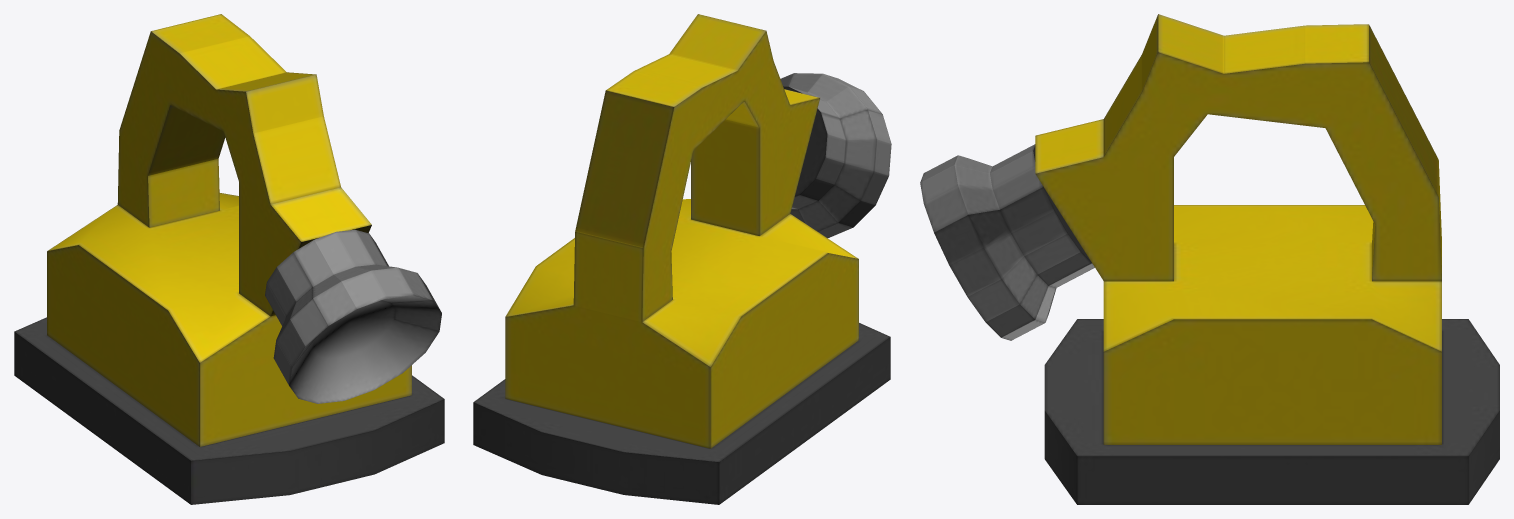
Rendered from FLASHLIGHT.FBX.
The picture shows the model from 3 angles, left to right: view 1: azimuth 30°, elevation 25°; view 2: azimuth 150°, elevation 25°; view 3: azimuth 270°, elevation 25°; orthographic projection. The views are drawn at different scales.
Visible parts, largest first — view 1: Box001; view 2: Box001; view 3: Box001.
Boxes of the visible parts, x1=… form: Box001: x1=14, y1=14, x2=444, y2=504; Box001: x1=473, y1=14, x2=891, y2=504; Box001: x1=920, y1=14, x2=1499, y2=504.
Bounding box in the file's own units: 11.62 × 15.94 × 20.77.
